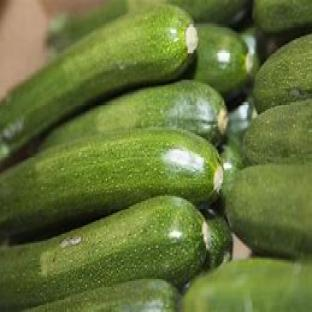Zucchini: (0, 6, 197, 162), (0, 129, 222, 237), (0, 196, 210, 310), (44, 80, 227, 147), (226, 165, 311, 258), (184, 259, 311, 311), (186, 25, 254, 95), (26, 280, 179, 311), (253, 35, 311, 112), (244, 99, 311, 164), (203, 209, 232, 268), (220, 137, 244, 208), (227, 98, 256, 143), (240, 27, 262, 81)
